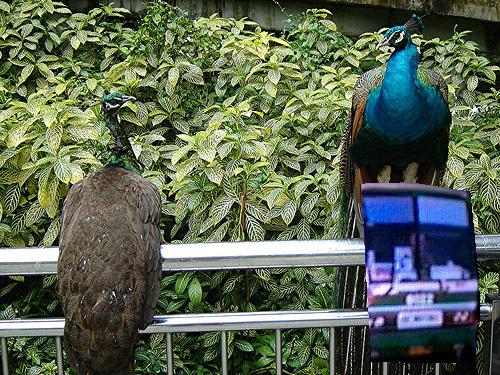tampered: (363, 183, 480, 363)
